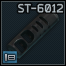AR-15 Bulletec ST-6012 5.56x45 muzzle brake: (0, 0, 66, 66)
